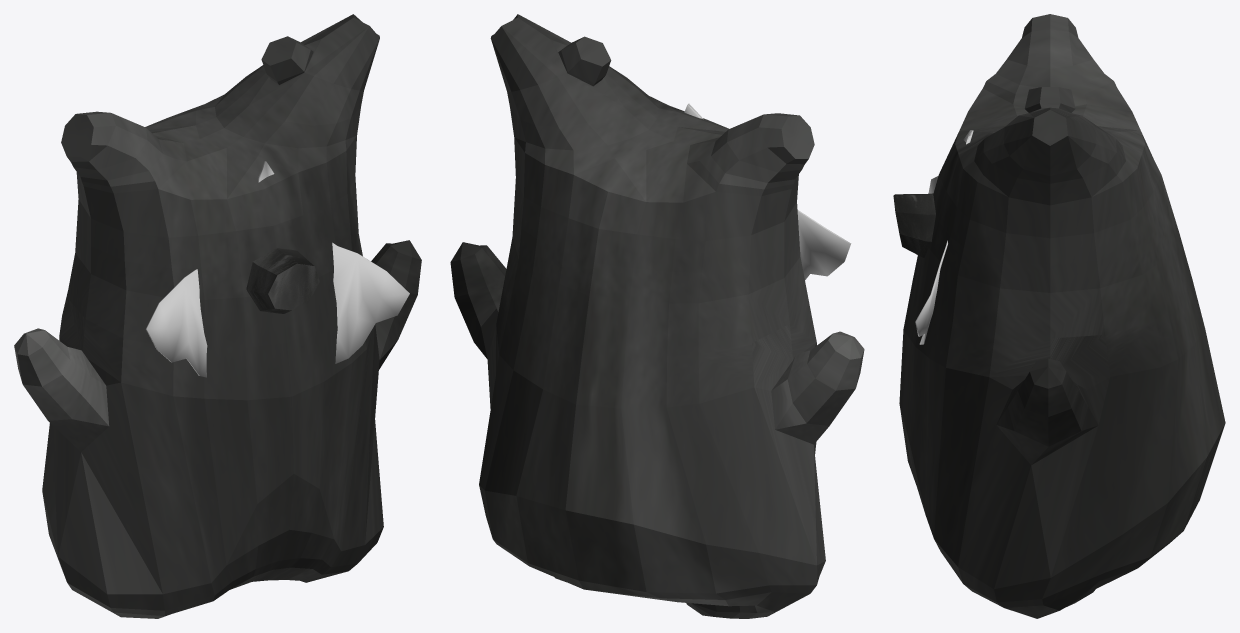
File: frame_0053.obj
3 views of the same model, side by side, from view 1: azimuth 30°, elevation 25°; view 2: azimuth 150°, elevation 25°; view 3: azimuth 270°, elevation 25° (orthographic). The views are drawn at different scales.
Parts seen in each view (by area): view 1: korok, leaf, nose; view 2: korok, leaf; view 3: korok, nose, leaf.
Boxes of the visible parts, left/top/right/bottom form: korok: left=14, top=14, right=421, bottom=618; leaf: left=146, top=161, right=409, bottom=377; nose: left=246, top=248, right=319, bottom=313; korok: left=450, top=14, right=864, bottom=618; leaf: left=684, top=103, right=851, bottom=279; korok: left=899, top=14, right=1225, bottom=618; nose: left=893, top=193, right=935, bottom=257; leaf: left=915, top=130, right=973, bottom=344.
Size of the model in its own units: 1.59 by 2.04 by 1.17.
